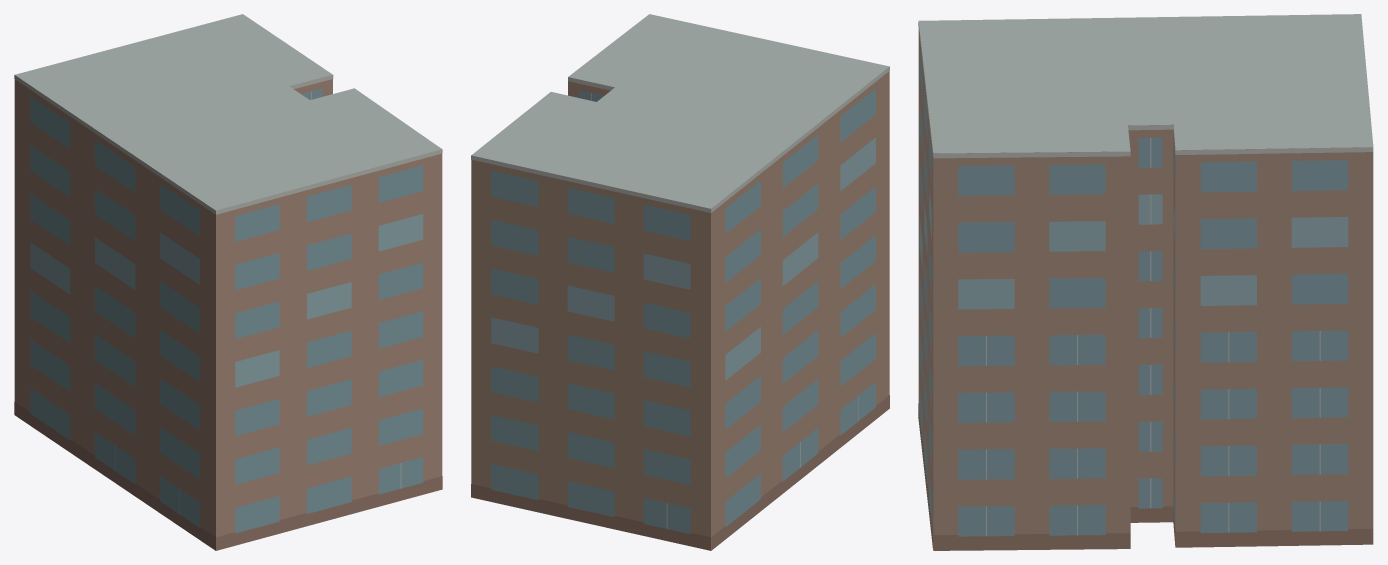
Rendered from survey-upis-33025309.glb.
3 views of the same model, side by side, from view 1: azimuth 30°, elevation 25°; view 2: azimuth 150°, elevation 25°; view 3: azimuth 270°, elevation 25° (orthographic). The views are drawn at different scales.
Visible parts, largest first — view 1: survey-upis-33025309.tmp; view 2: survey-upis-33025309.tmp; view 3: survey-upis-33025309.tmp.
Part boxes in pixels (x1,y1,x2,y2): survey-upis-33025309.tmp: (14,14,442,550); survey-upis-33025309.tmp: (471,14,889,550); survey-upis-33025309.tmp: (918,14,1373,550).
Bounding box in the file's own units: 14.91 × 19.8 × 20.55.
